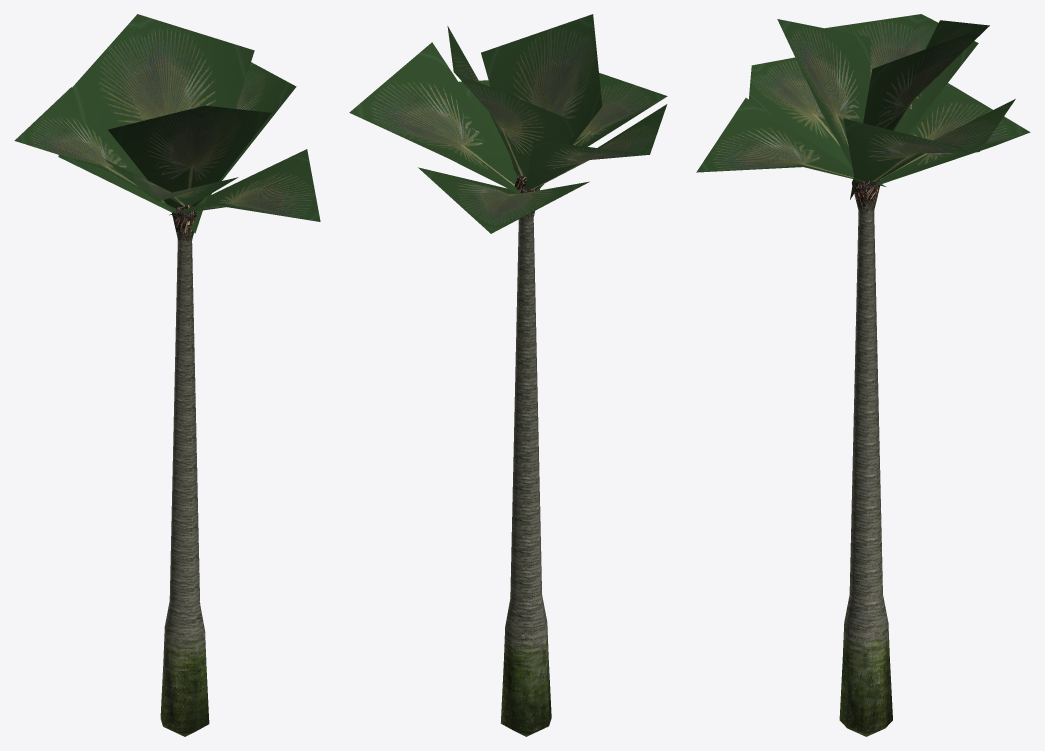
The model's file is ever_palmtree_lrg_l0.fbx.
3 renders of one model, left to right at view 1: azimuth 30°, elevation 25°; view 2: azimuth 150°, elevation 25°; view 3: azimuth 270°, elevation 25°, orthographic. The views are drawn at different scales.
Visible parts, largest first — view 1: mesh_node; view 2: mesh_node; view 3: mesh_node.
Boxes of the visible parts, box(x1,y1,x2,y2) form: mesh_node: box(14, 14, 320, 736); mesh_node: box(349, 14, 667, 736); mesh_node: box(696, 14, 1030, 736).
Bounding box in the file's own units: 10.64 × 26.4 × 11.16.
4 materials, 4 textured.
